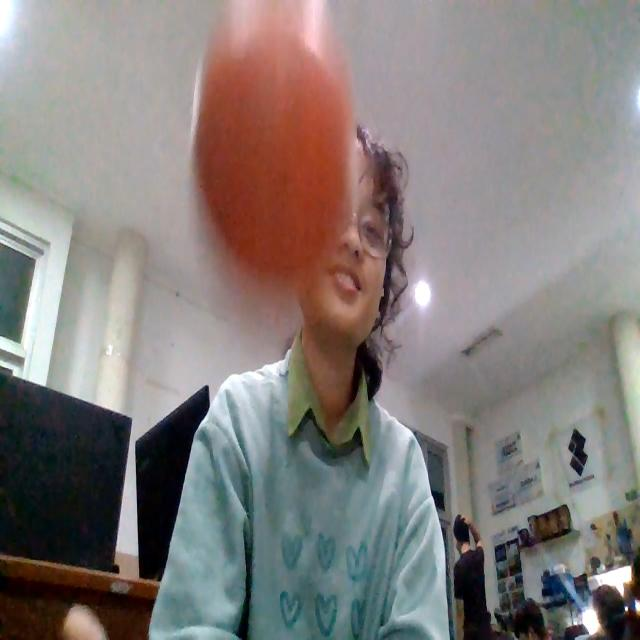ball: (194, 30, 348, 281)
